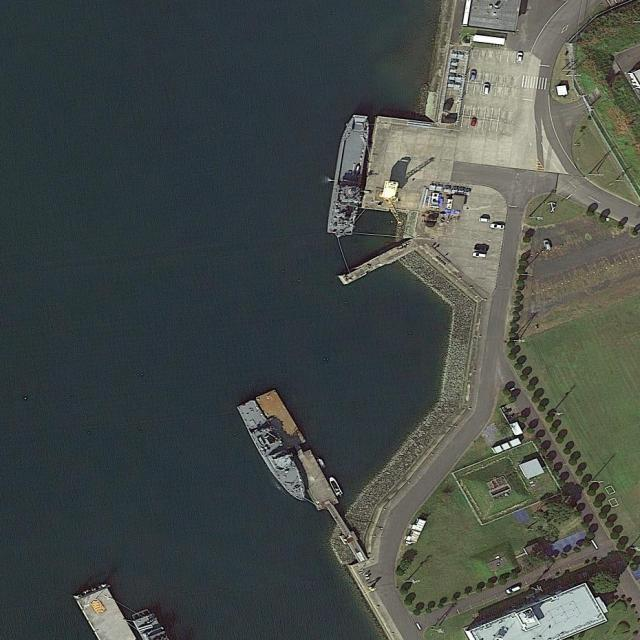Cargo: (323, 111, 373, 240)
Dock: (257, 390, 352, 540)
Other Warship: (234, 398, 311, 509)
